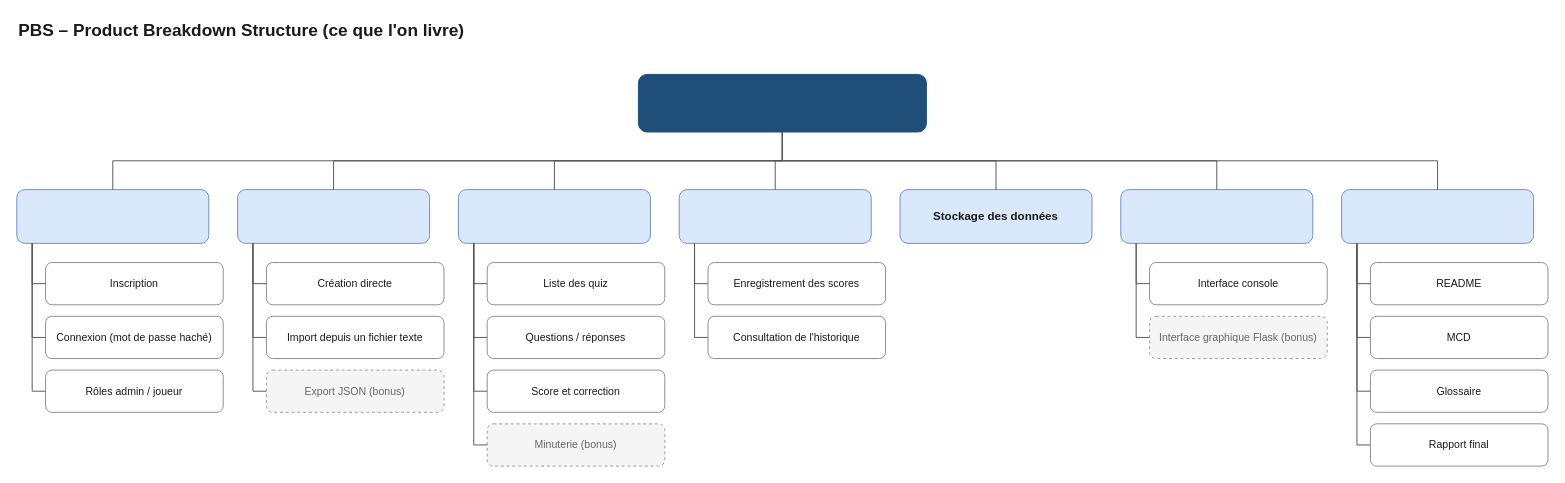
Some shapes in this 1565 by 483 pixel diagram are drawn without their labels. Each missing label, with the centre of its shape:
"Application Quiz Python" belongs at (781,102).
"Documentation" belongs at (1437,216).
"Interface" belongs at (1216,216).
"Module Comptes" belongs at (112,216).
"Module Historique" belongs at (774,216).
"Module Passage de quiz" belongs at (553,216).
"Module Quiz (admin)" belongs at (333,216).
